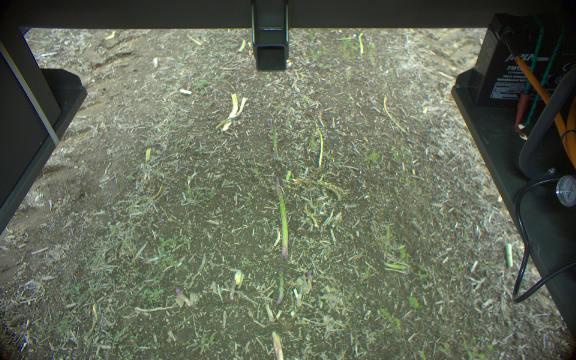aspa: (272, 181, 296, 259), (310, 128, 328, 169), (268, 122, 282, 159), (274, 267, 286, 306), (173, 287, 194, 308), (225, 278, 240, 300), (302, 269, 317, 289)
